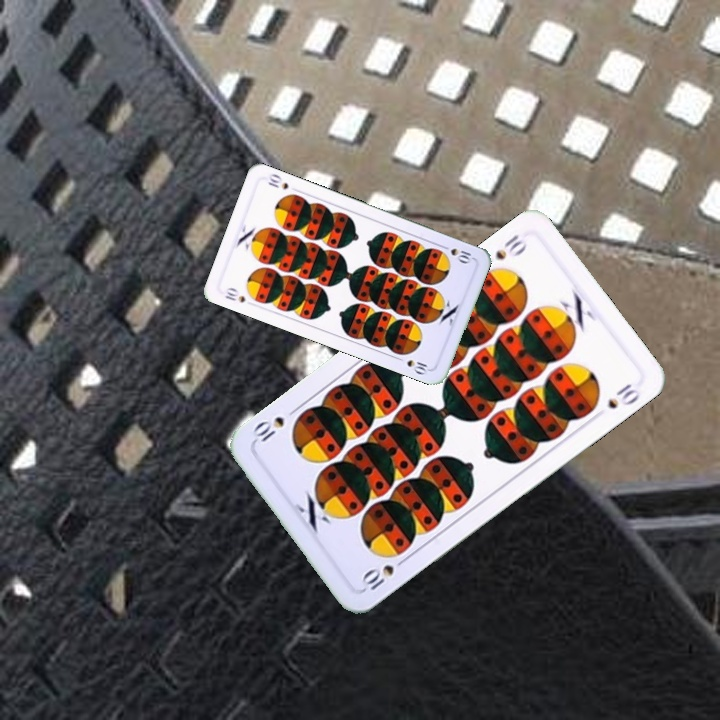S10: (358, 553, 411, 593), (491, 230, 530, 263), (437, 241, 474, 266), (221, 283, 248, 305)
